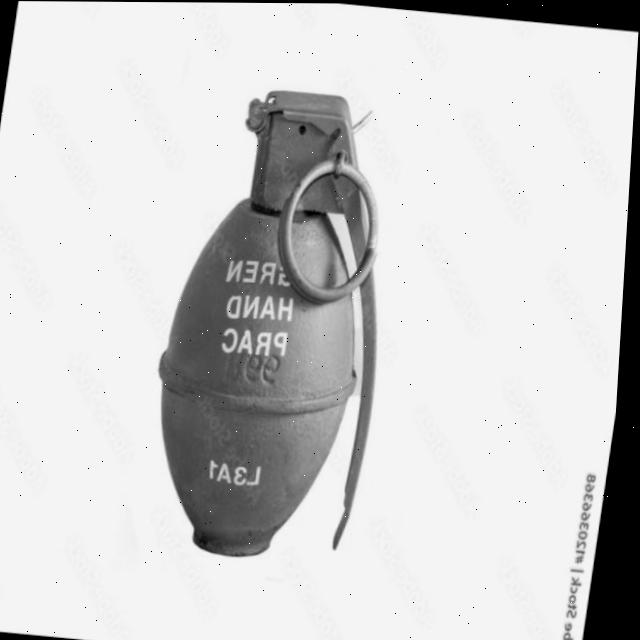grenade: (134, 60, 428, 578)
